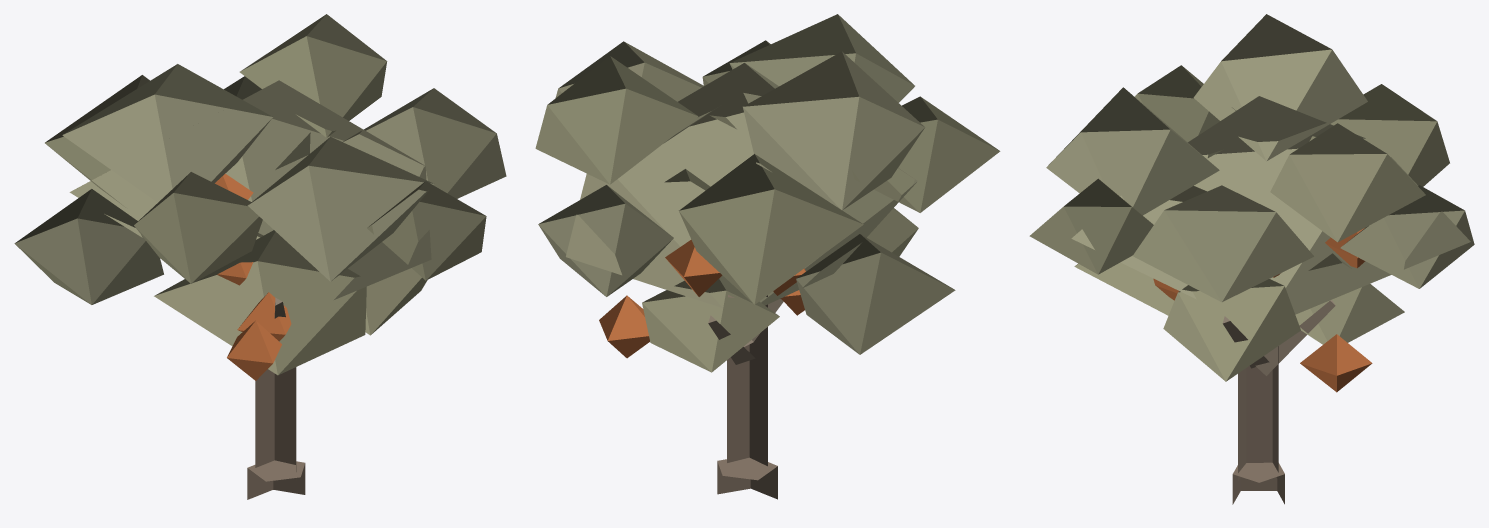
Rendered from tree.trop.mango__winter.glb.
The picture shows the model from 3 angles, left to right: view 1: azimuth 30°, elevation 25°; view 2: azimuth 150°, elevation 25°; view 3: azimuth 270°, elevation 25°; orthographic projection. The views are drawn at different scales.
Parts seen in each view (by area): view 1: tree.trop.mango__winter; view 2: tree.trop.mango__winter; view 3: tree.trop.mango__winter.
Part boxes in pixels (bbox=[...]): tree.trop.mango__winter: bbox=[14, 14, 506, 499]; tree.trop.mango__winter: bbox=[535, 14, 1000, 499]; tree.trop.mango__winter: bbox=[1029, 14, 1474, 504].
Size of the model in its own units: 11.11 by 11.81 by 10.79.
